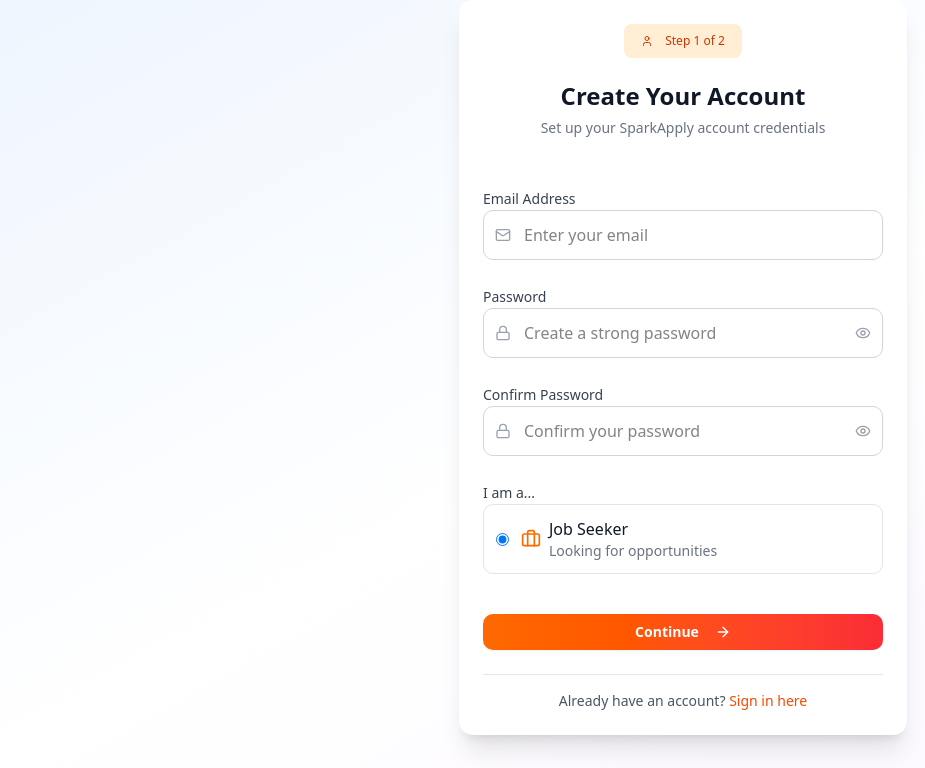
Test case: RegisterForm › proceeds to step 2 with valid step 1 data
Type "test@example.com" into the field labelled "Email Address" at (683, 235), box [483, 210, 883, 260]
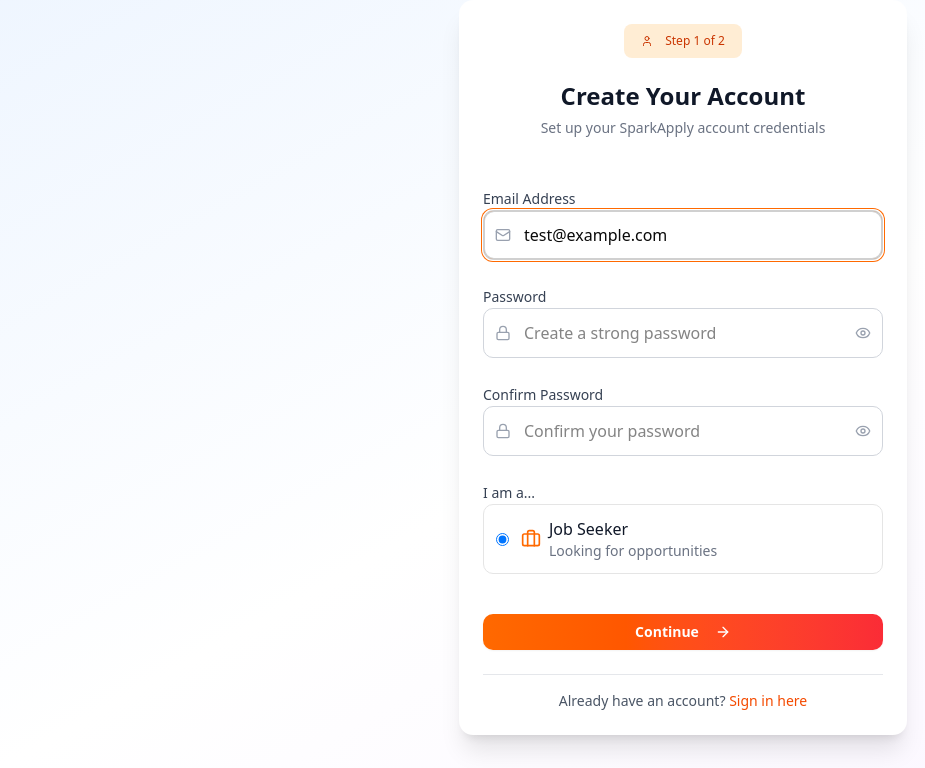
Type "Password123" into the password field labelled "Password" at (683, 333), box [483, 308, 883, 358]
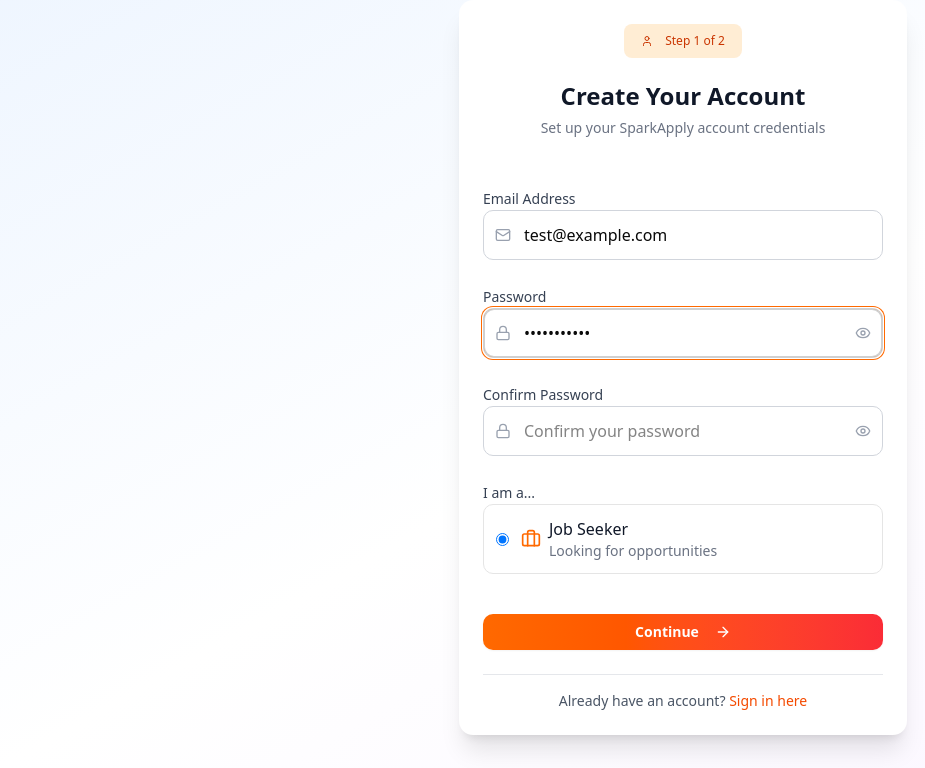
Type "Password123" into the password field labelled "Confirm Password" at (683, 431), box [483, 406, 883, 456]
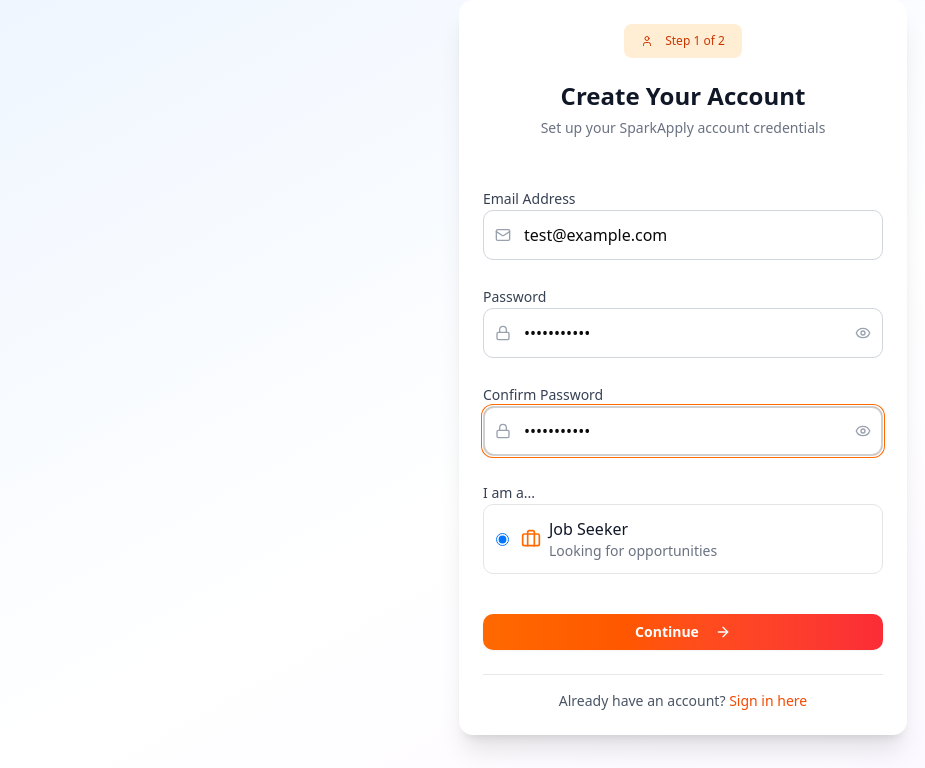
Click the button "Continue" at (683, 632), box [483, 614, 883, 650]
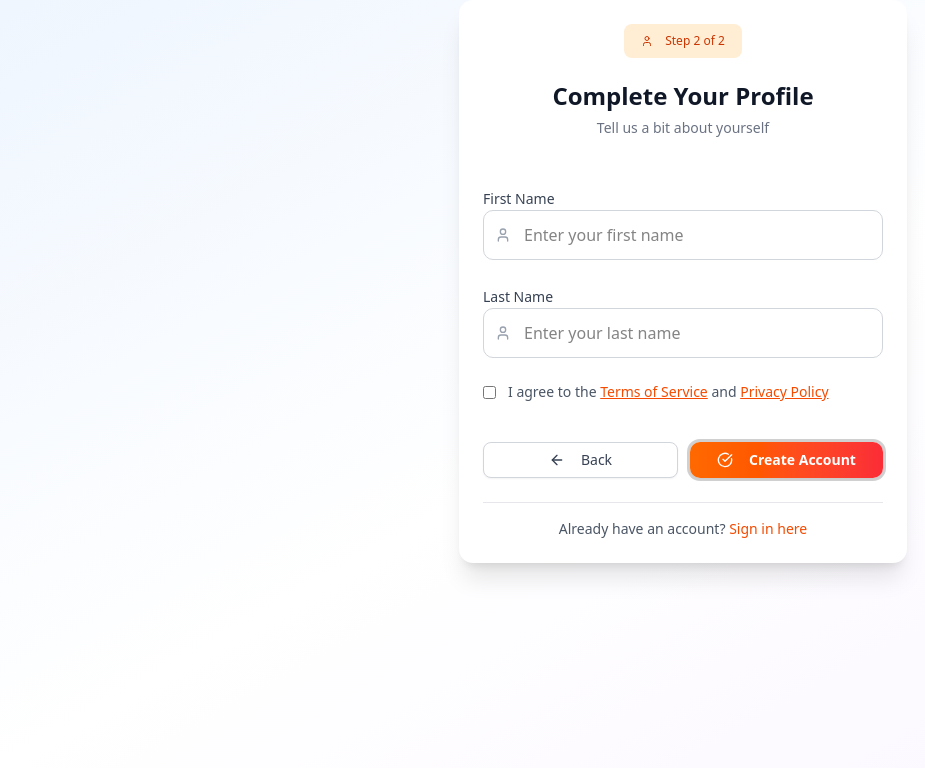
Check: the text "Step 2 of 2" is shown, box [624, 24, 742, 58]
Check: the field labelled "First Name" is shown, box [483, 210, 883, 260]
Check: the field labelled "Last Name" is shown, box [483, 308, 883, 358]
